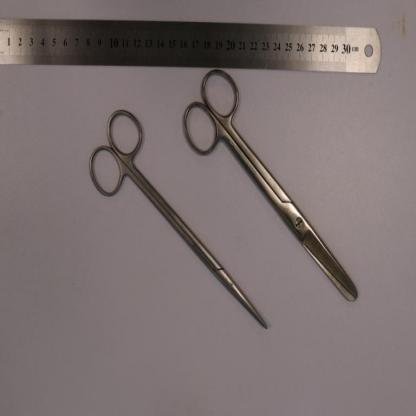7 Metzenbaum Scissors: (86, 106, 268, 330)
Dressing Scissors: (183, 66, 358, 302)
